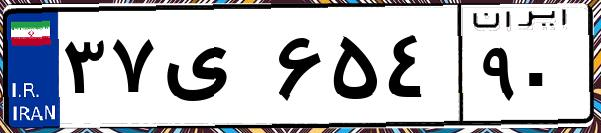0: (525, 38, 570, 115)
3: (57, 26, 110, 100)
4: (385, 28, 445, 110)
5: (330, 28, 385, 110)
6: (270, 28, 330, 110)
7: (110, 28, 158, 98)
9: (475, 38, 525, 113)
ی: (158, 20, 270, 120)
